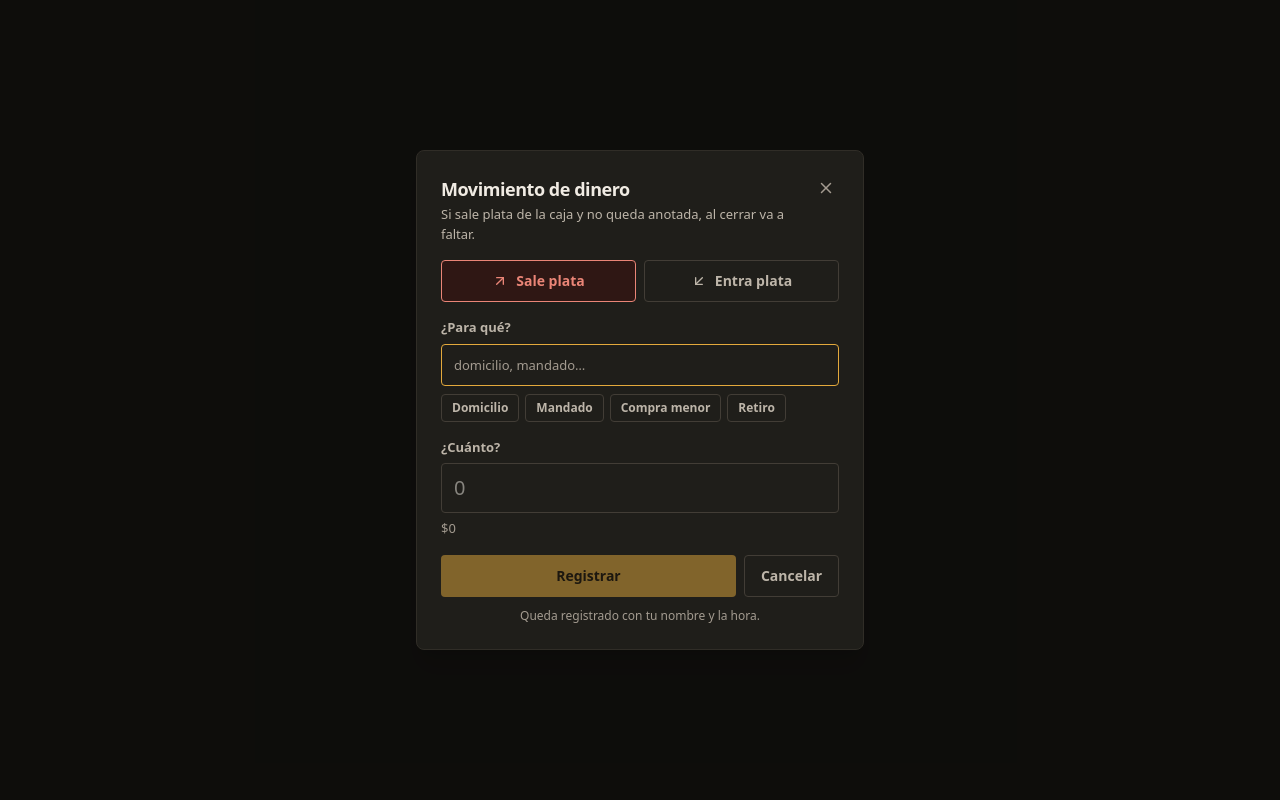
Test case: el monto › se muestra formateado en pesos mientras se escribe
This screenshot has width=1280, height=800.
Type "25000" into the field labelled "¿Cuánto? $0" at [640, 488], box [441, 463, 839, 513]
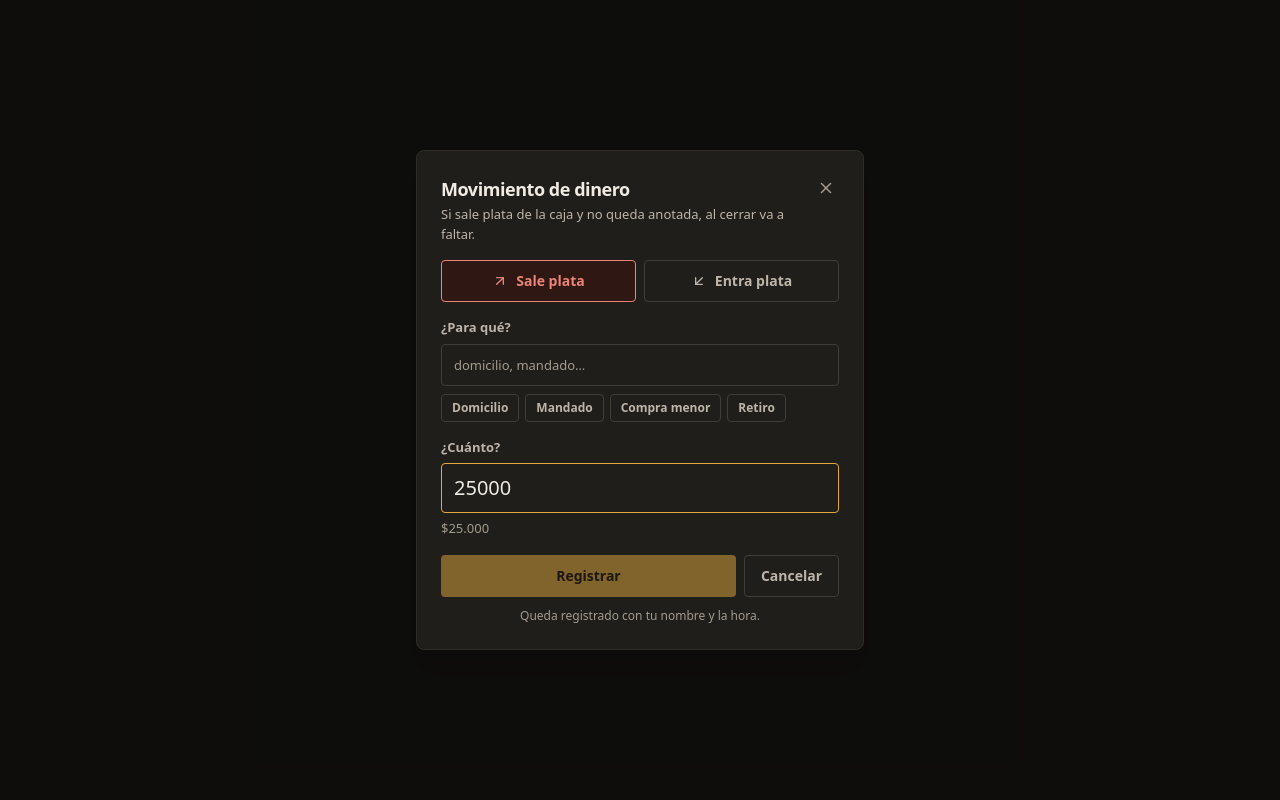
Expected: the text "$25.000" is shown, [441, 519, 489, 537]
